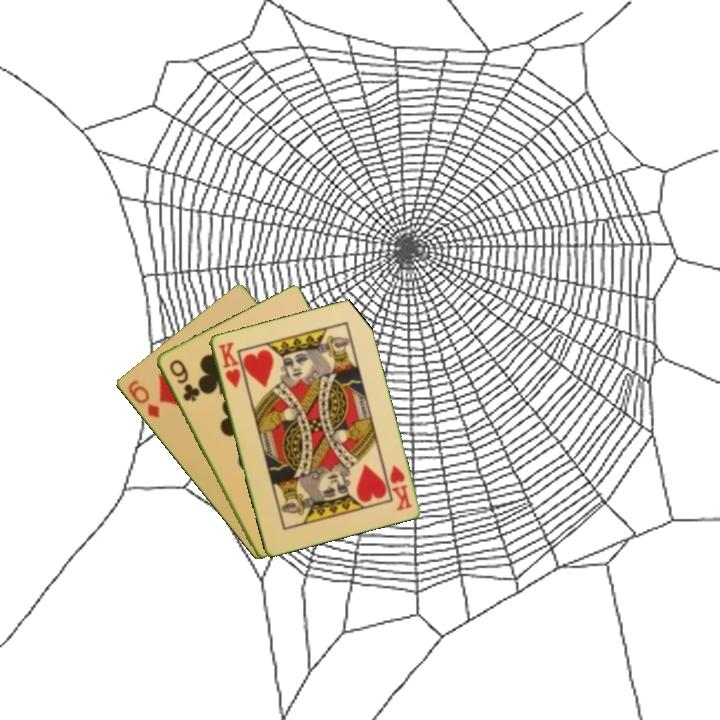6d: (124, 376, 162, 421)
9c: (165, 356, 201, 404)
Kh: (214, 338, 243, 391), (386, 461, 415, 513)
